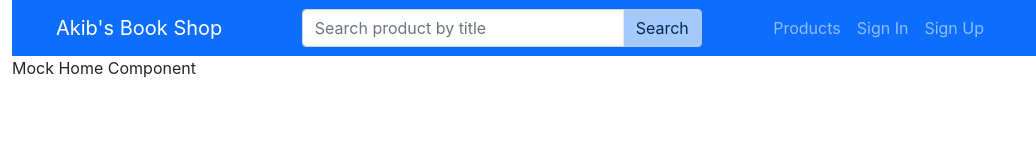
Test: App › should navigate to the right component
Expected: the text "Mock Home Component" is shown, [12,58,196,78]
# navigating to sign-in page
Click the link "Sign In": (883,28) [857,18,908,38]
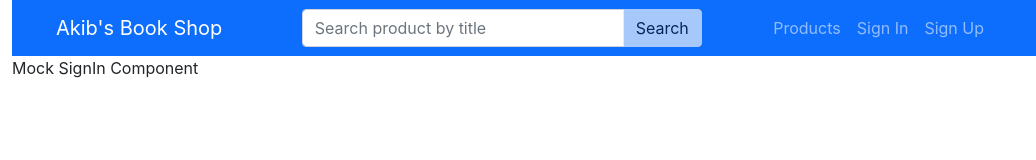
Expected: the text "Mock SignIn Component" is shown, [12,58,198,78]
# navigating to sign-up page
Click the link "Sign Up": (954,28) [924,18,984,38]
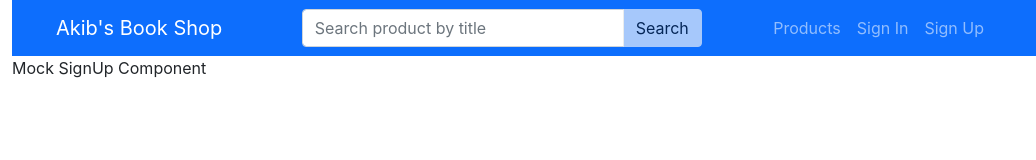
Expected: the text "Mock SignUp Component" is shown, [12,58,206,78]
# navigating to home page
Click the link "Products": (807,28) [773,18,841,38]
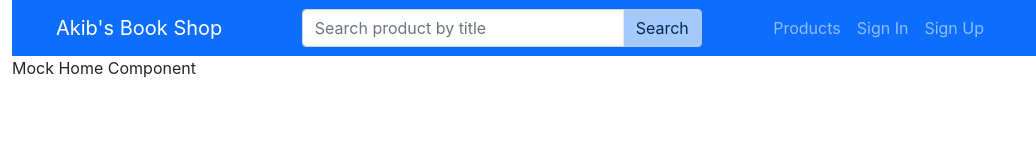
Expected: the text "Mock Home Component" is shown, [12,58,196,78]
